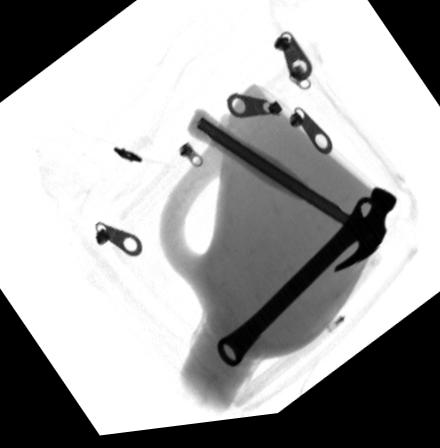Hammer: (184, 111, 396, 282)
Wrench: (216, 202, 384, 375)
